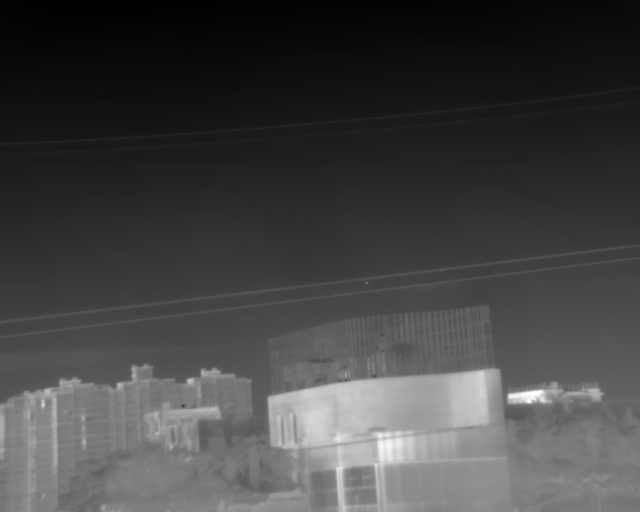Target: (365, 281, 368, 284)
